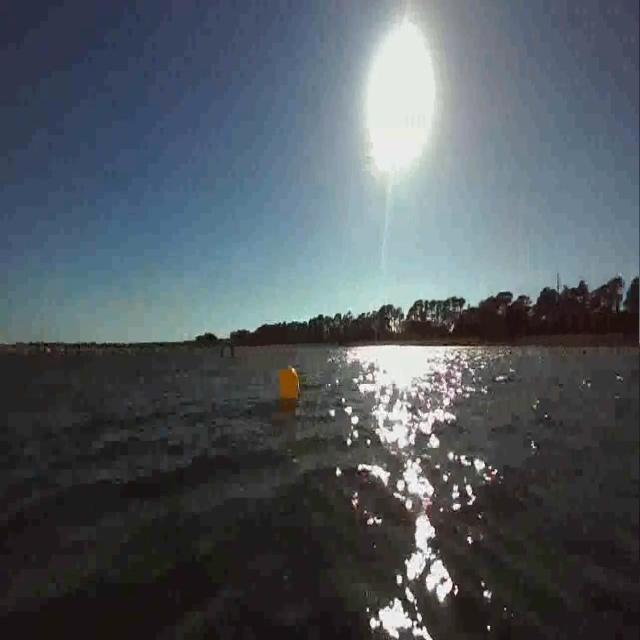yellow-buoy: (276, 360, 303, 408)
